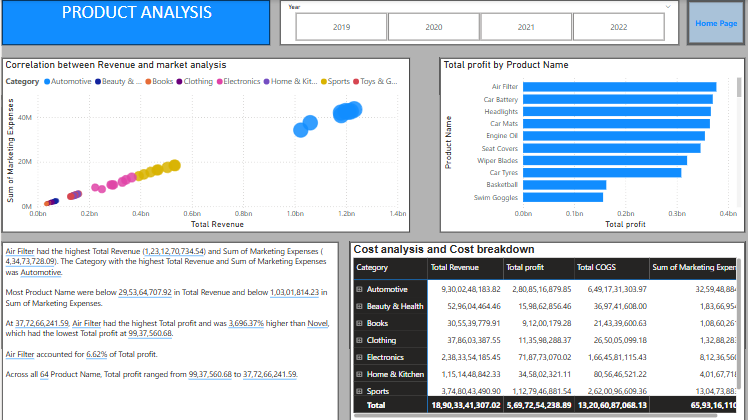

The page's visual inventory and layout, read from the dashboard file:
{"tool":"powerbi","page":{"name":"Product Analysis","canvas":[1280,720],"ordinal":2},"visuals":[{"type":"scatterChart","title":"Correlation between Revenue and market analysis","fields":{"X":["Sales table.Total Revenue"],"Y":["Sum(Sales table.Marketing Expenses)"],"Series":["Products.Category"],"Category":["Products.Product Name"],"Size":["Sales table.Total profit"]},"box":[0,99.4,697,298.1],"z":0},{"type":"clusteredBarChart","fields":{"Y":["Sales table.Total profit"],"Category":["Sales table.Product Name"]},"box":[748.8,99.4,521.3,298.1],"z":1000},{"type":"pivotTable","title":"Cost analysis and Cost breakdown","fields":{"Rows":["Products.Category","Products.Product Name"],"Values":["Sales table.Total Revenue","Sales table.Total profit","Sales table.Total COGS","Sum(Sales table.Marketing Expenses)"]},"box":[594.7,413.3,675.4,306.7],"z":2000},{"type":"slicer","fields":{"Values":["Dates.Year"]},"box":[911.3,0,245.2,76.5],"z":3000},{"type":"textbox","box":[0,413.3,574.6,306.7],"z":5000},{"type":"textbox","title":"PRODUCT ANALYSIS","box":[0,0,898.6,76.5],"z":6000},{"type":"actionButton","box":[1170.7,0,99.2,76.5],"z":7000}]}

Visuals, with their boxes in screenshot pixels (x1, y1, x2, y2), scaled from the page's 1280x720 canvas onto the 748x420 screenshot:
"Correlation between Revenue and market analysis" scatterChart: l=0, t=58, r=407, b=232
clusteredBarChart - Sales table.Total profit x Sales table.Product Name: l=438, t=58, r=742, b=232
"Cost analysis and Cost breakdown" pivotTable: l=348, t=241, r=742, b=419
slicer - Dates.Year: l=533, t=0, r=676, b=45
textbox: l=0, t=241, r=336, b=419
"PRODUCT ANALYSIS" textbox: l=0, t=0, r=525, b=45
actionButton: l=684, t=0, r=742, b=45
